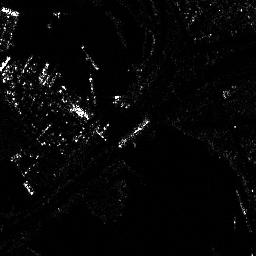ship: (118, 118, 151, 147)
